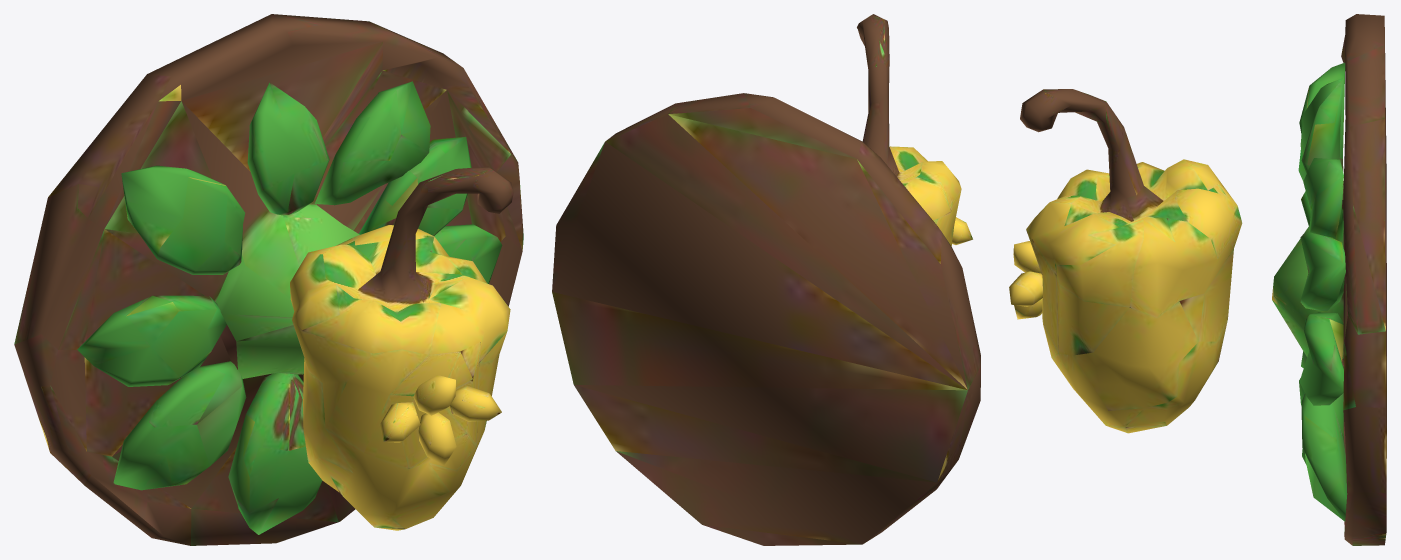
File: farm.glb
The picture shows the model from 3 angles, left to right: view 1: azimuth 30°, elevation 25°; view 2: azimuth 150°, elevation 25°; view 3: azimuth 270°, elevation 25°; orthographic projection. The views are drawn at different scales.
Visible parts, largest first — view 1: Mesh_0; view 2: Mesh_0; view 3: Mesh_0.
Boxes of the visible parts, x1,y1,x2,y2 form: Mesh_0: [14, 14, 523, 545]; Mesh_0: [552, 14, 980, 545]; Mesh_0: [1009, 14, 1386, 545].
Bounding box in the file's own units: 1 × 1 × 0.7057.
1 material, 1 textured.
